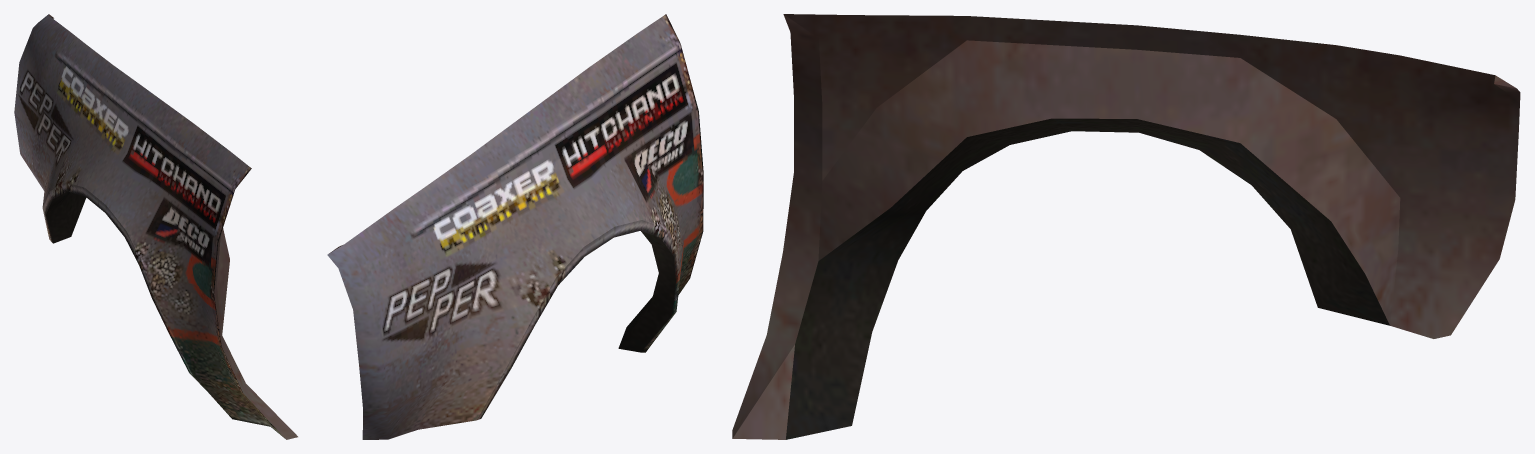
Rendered from part_9_fenderleft.fbx.
3 renders of one model, left to right at view 1: azimuth 30°, elevation 25°; view 2: azimuth 150°, elevation 25°; view 3: azimuth 270°, elevation 25°, orthographic. The views are drawn at different scales.
Parts seen in each view (by area): view 1: part_9_fenderleft.001; view 2: part_9_fenderleft.001; view 3: part_9_fenderleft.001.
Part boxes in pixels (x1,y1,x2,y2): part_9_fenderleft.001: [14, 14, 297, 439]; part_9_fenderleft.001: [327, 14, 703, 439]; part_9_fenderleft.001: [732, 14, 1520, 439].
Bounding box in the file's own units: 22.62 × 62.5 × 111.
